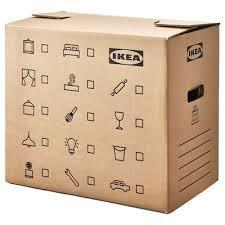box: (4, 9, 220, 216)
